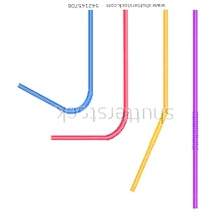drinking_straw: (46, 6, 134, 147), (14, 9, 98, 117), (126, 6, 172, 196), (186, 6, 205, 213)
